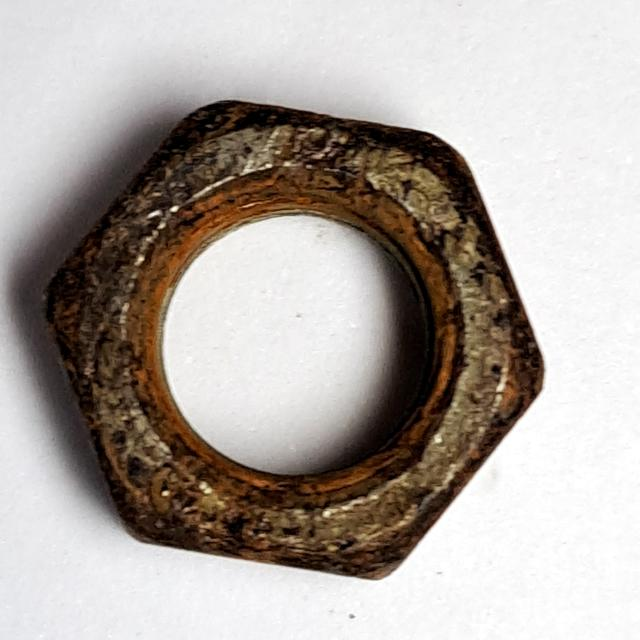Rust: (29, 87, 555, 589)
